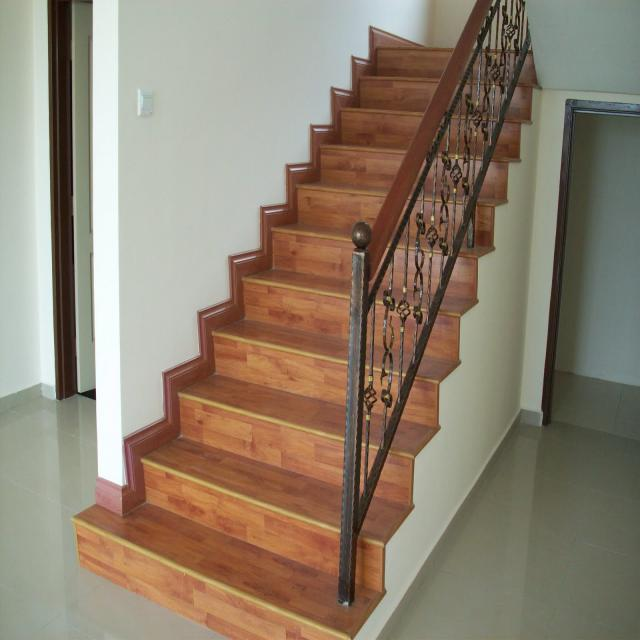upstair: (65, 41, 493, 612)
